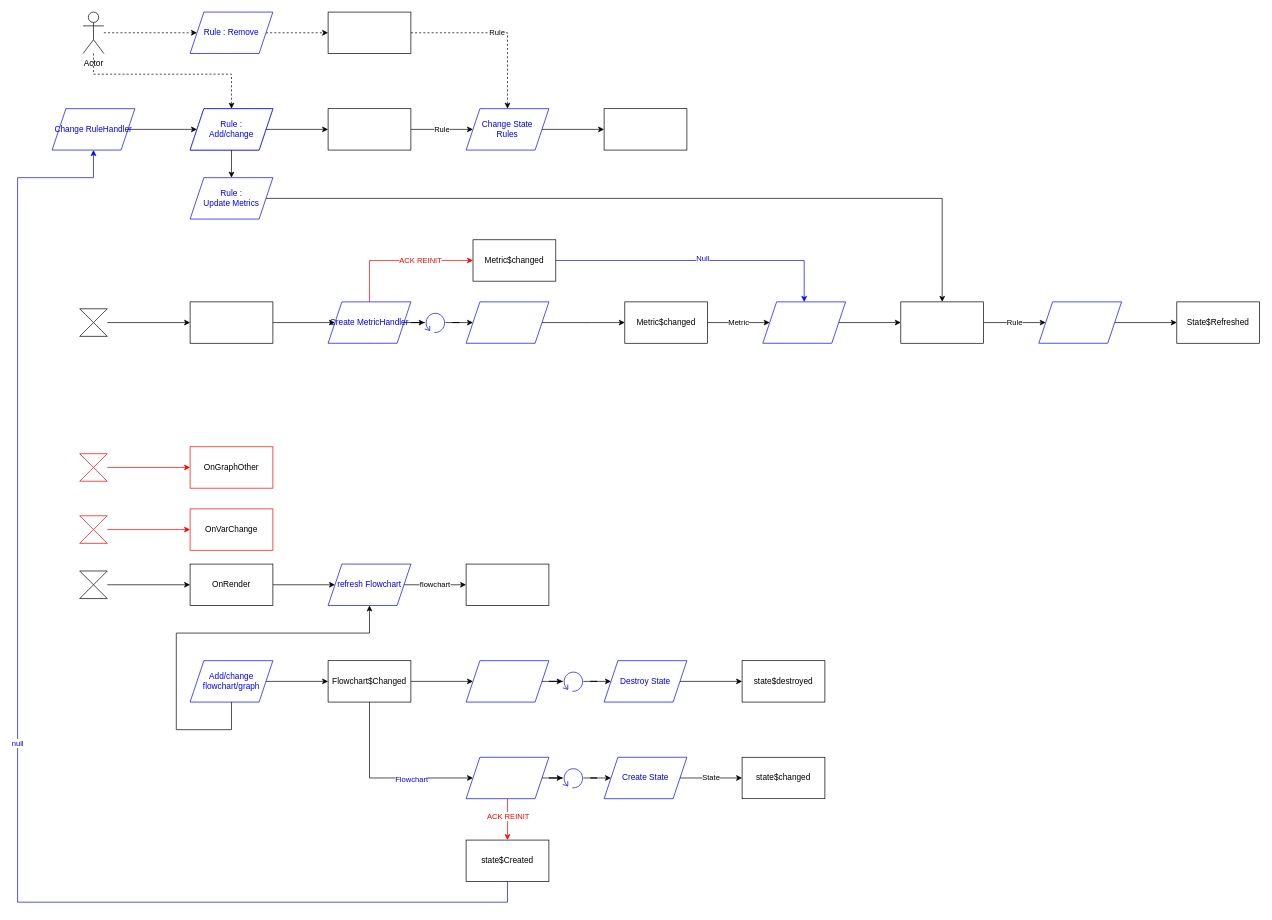
Image size: 1272x920. Some labels were removed from this diagram. The centre of each missing label's shape, as x and y in pixels:
"Add/Change Metric" belongs at [507,322].
"Create StateHandler" belongs at [507,778].
"Destroy StateHandler" belongs at [507,681].
"flowchart$refreshed" belongs at [507,584].
"OnDataReceived" belongs at [231,322].
"Refresh State Draw" belongs at [1080,322].
"Rule : Refresh metrics" belongs at [804,322].
"Rule$changed" belongs at [369,129].
"Rule$destroyed" belongs at [369,32].
"Rule$refreshed" belongs at [942,322].
"State$Changed No draw" belongs at [645,129].
